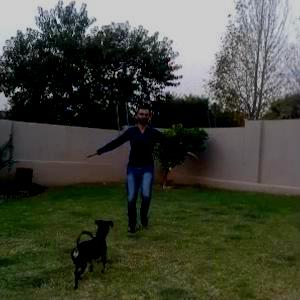land: (86, 102, 210, 252)
